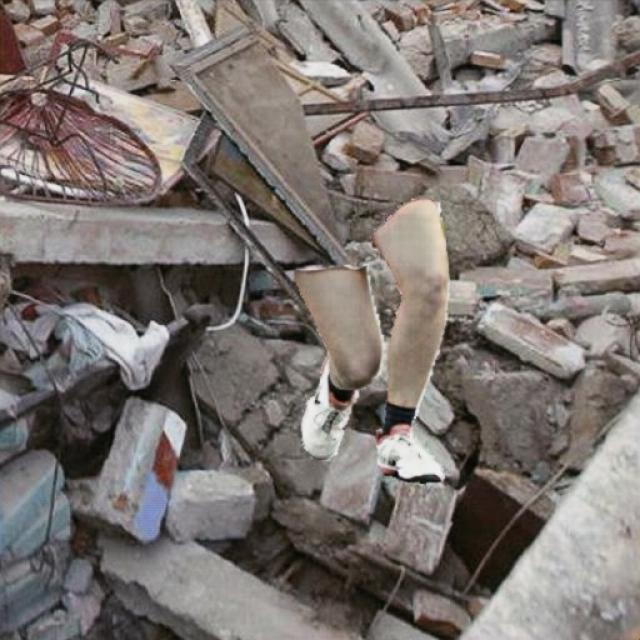Person in Rubble: (294, 198, 448, 482)
